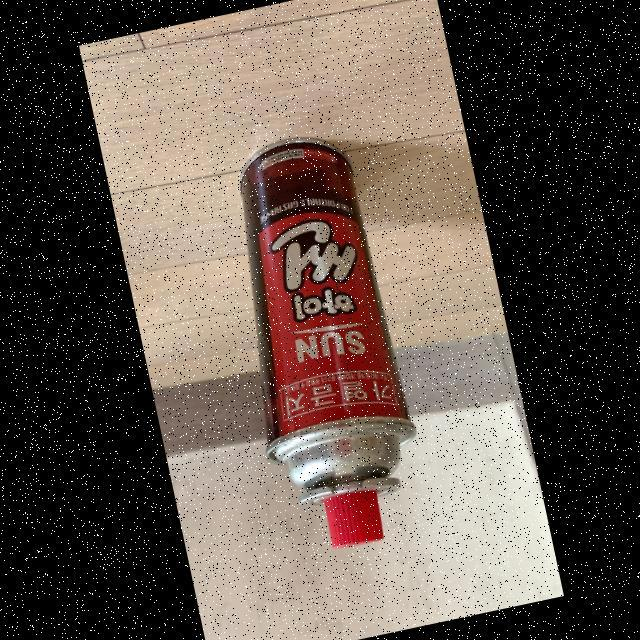chemical_spray_can: (194, 121, 438, 566)
